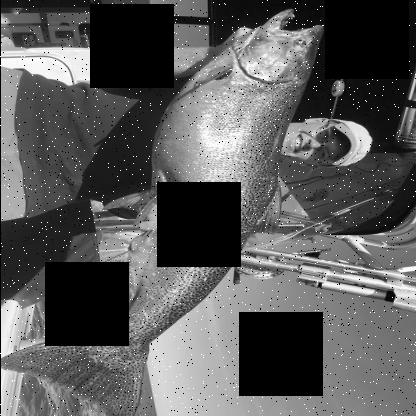fish: (1, 6, 325, 416)
